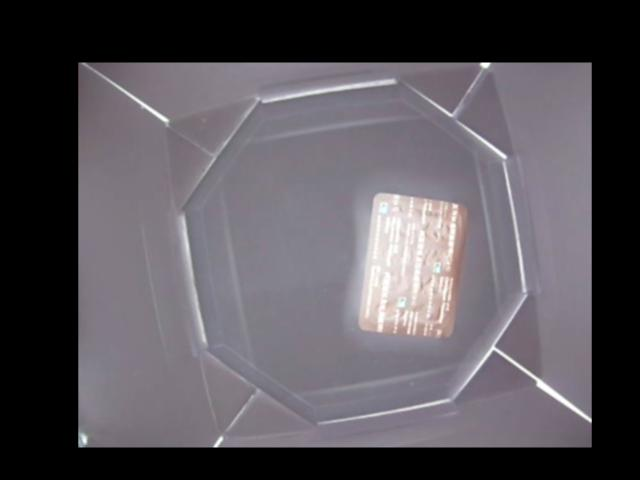Medicine: (356, 191, 467, 340)
